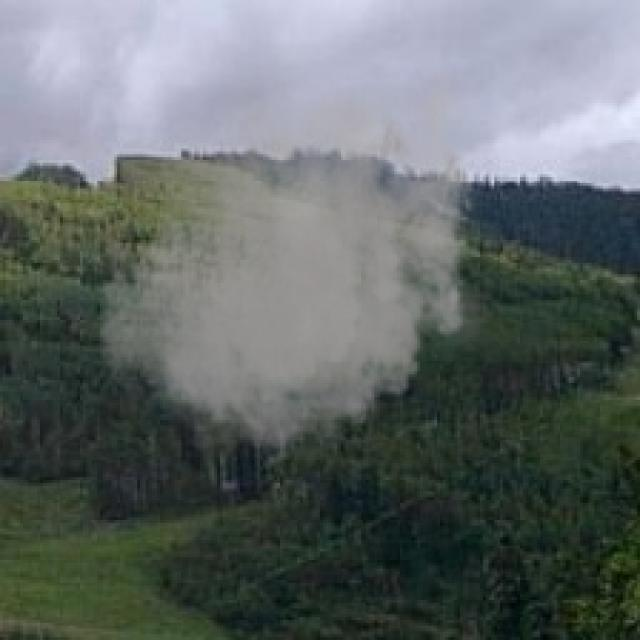smoke: (86, 52, 494, 477)
